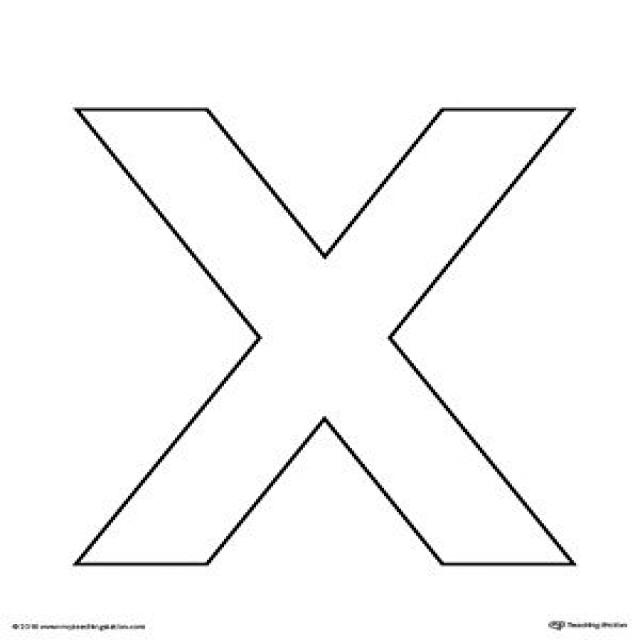X: (43, 48, 597, 586)
